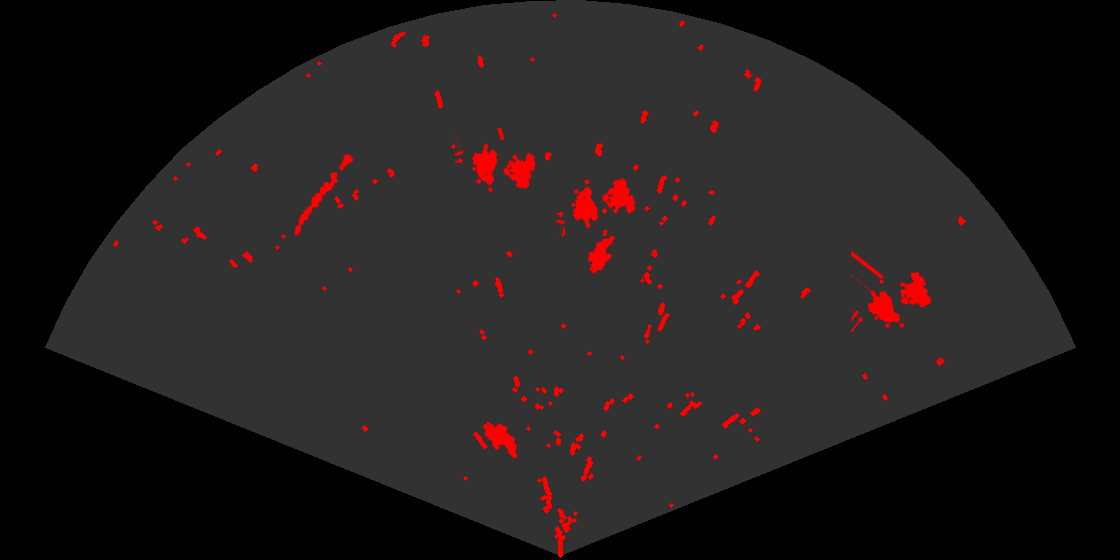AUV: (482, 420, 519, 460), (586, 234, 616, 275)
cage: (851, 250, 933, 334), (455, 128, 537, 194), (556, 177, 637, 236)
chain: (293, 153, 355, 237)
